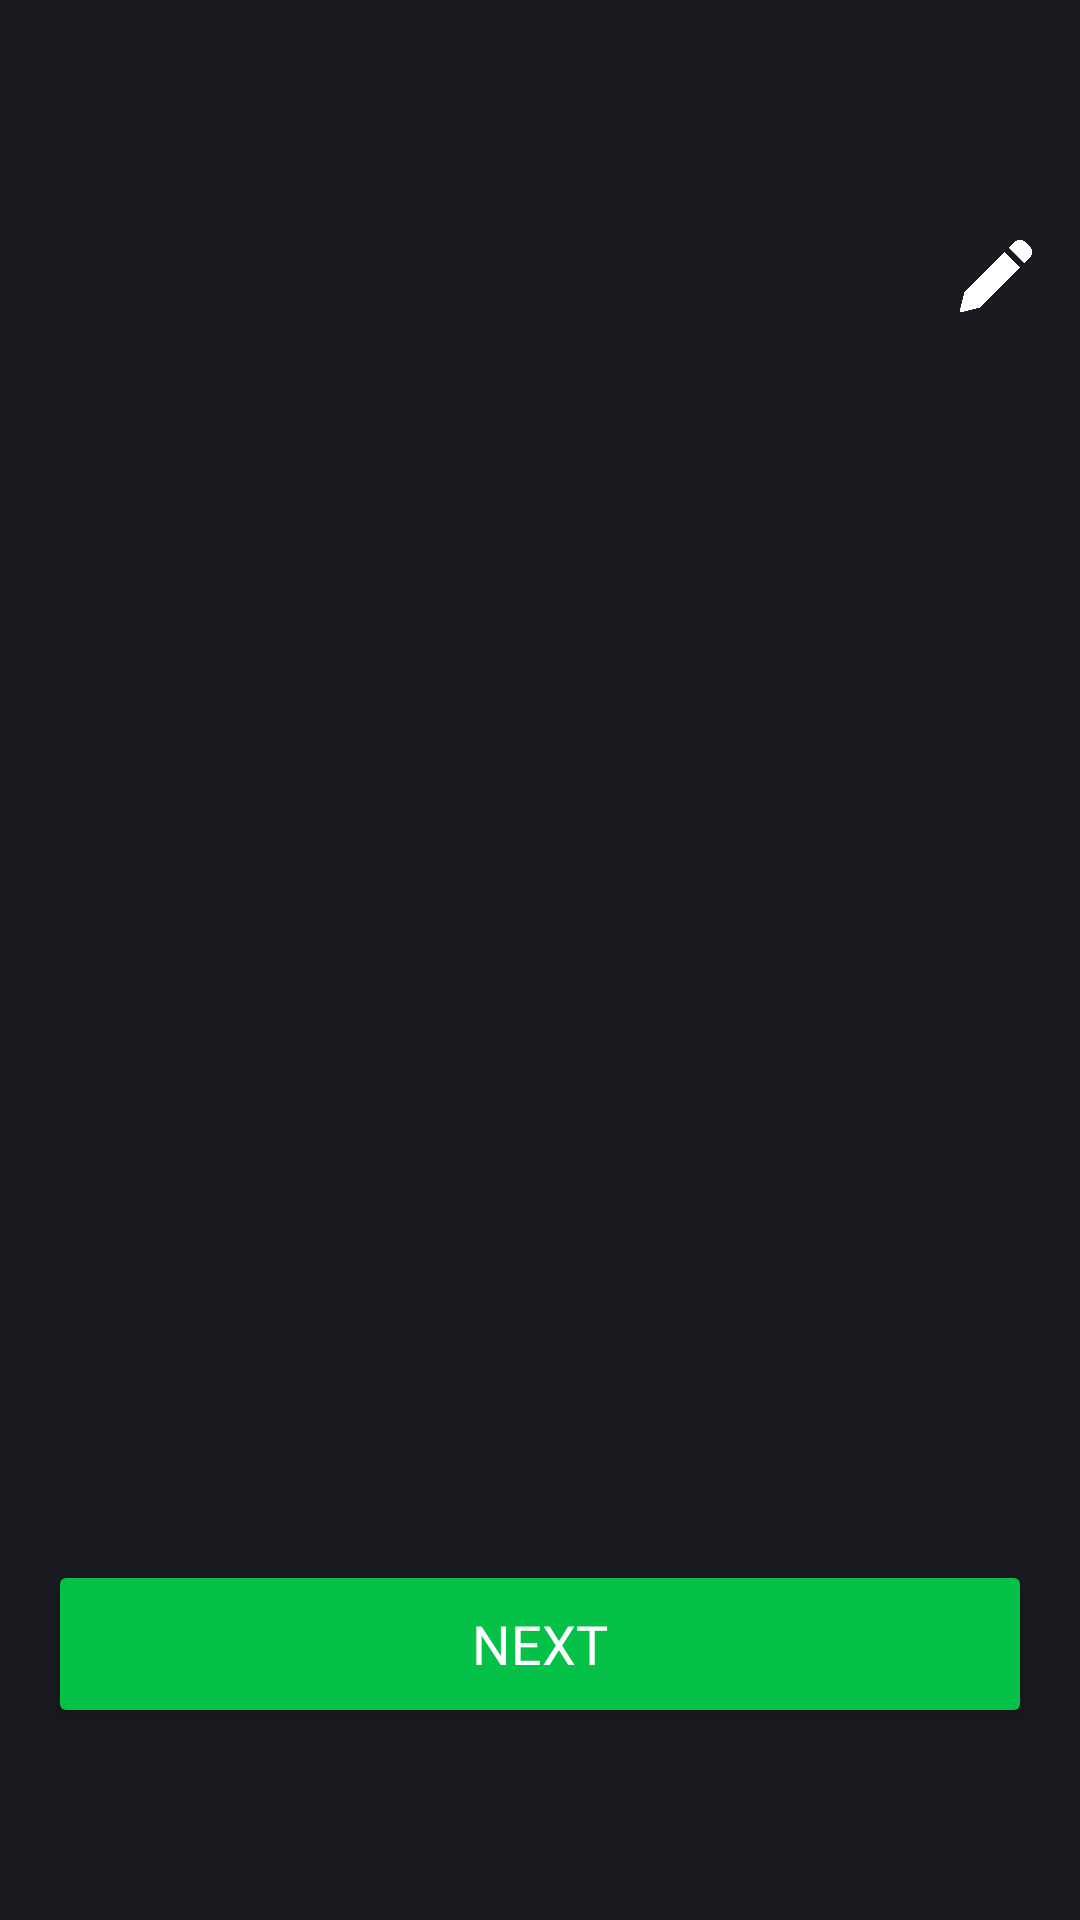

Icons on this 1080×1920 Android screen, each with its box as (x1,y1,x2,y2):
pencil: (960,240,1032,312)
